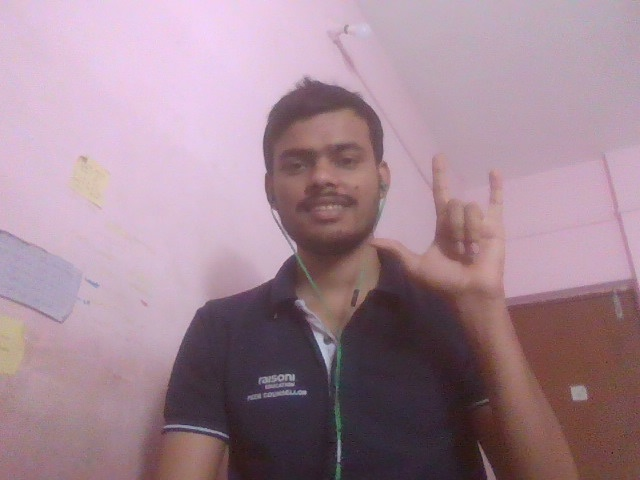ILoveYou: (317, 135, 640, 389)
